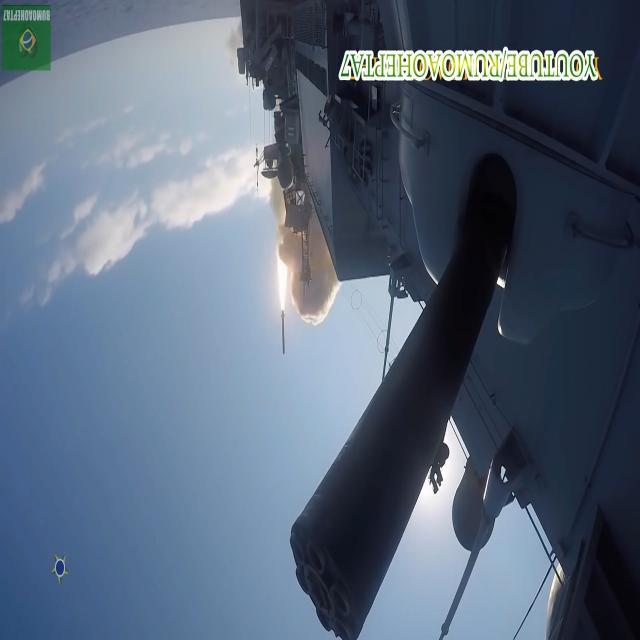Missile: (278, 301, 288, 364)
